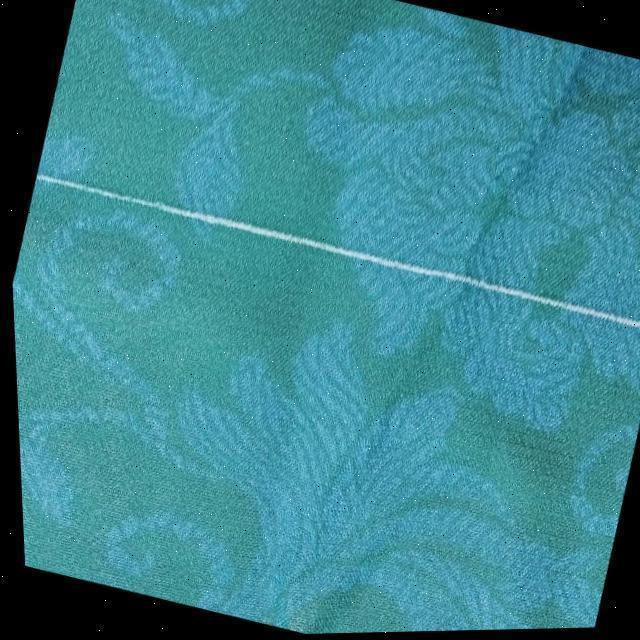pulled_or_thick_thread: (33, 176, 640, 336)
